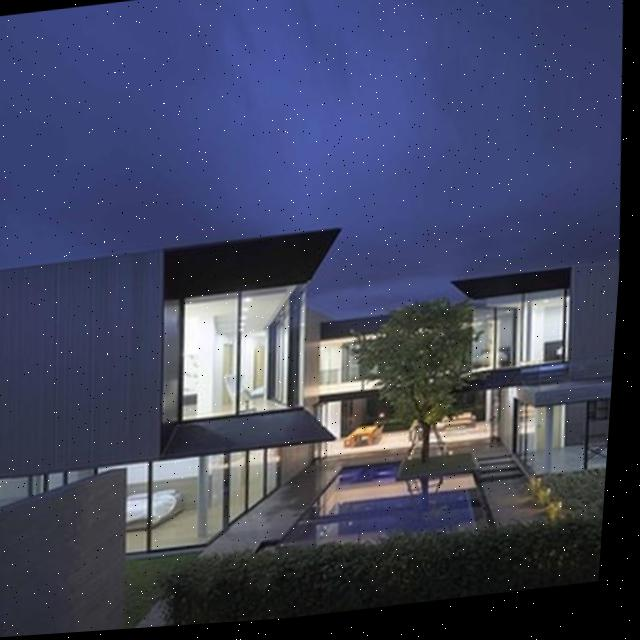building: (0, 226, 361, 572), (431, 249, 621, 502)
